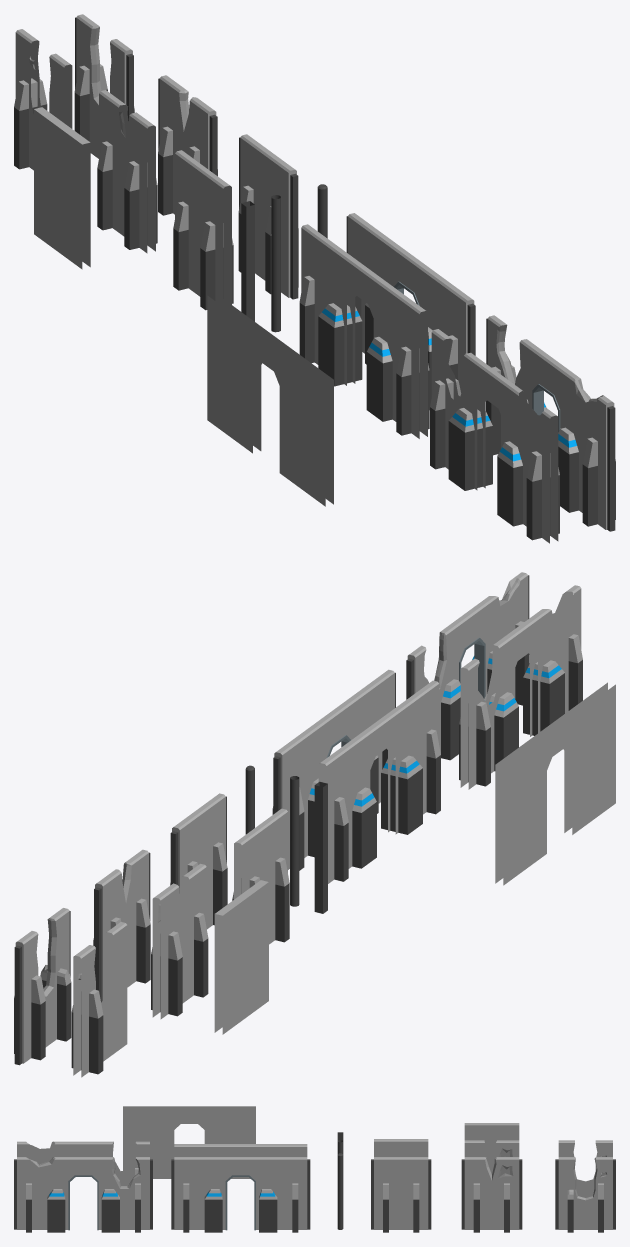
Rendered from OB_House #1.fbx.
3 renders of one model, top to bottom at view 1: azimuth 30°, elevation 25°; view 2: azimuth 150°, elevation 25°; view 3: azimuth 270°, elevation 25°, orthographic. The views are drawn at different scales.
Parts seen in each view (by area): view 1: Model_1(3), Model_1(2), Model_Skybox(2-3), Model_0(2), Model_1(6), Model_0(3), Model_1(5), Model_Skybox(5-7), Model_0(5), Model_0(6), Model_0(7), Model_0(7).001 (+2 smaller); view 2: Model_1(3), Model_1(2), Model_Skybox(2-3), Model_0(2), Model_0(3), Model_1(6), Model_0(7), Model_Skybox(5-7), Model_0(7).001, Model_0(6), Model_0(5), Model_1(5) (+2 smaller); view 3: Model_0(3), Model_0(2), Model_Skybox(2-3), Model_0(5), Model_0(6), Model_0(7), Model_1(2), Model_1(3), Model_Skybox(5-7), Model_1(5), Model_1(6), Model_0(7).001 (+1 smaller).
Part boxes in pixels (box(x1,y1,x2,y2)): Model_1(3): box(299, 224, 429, 438); Model_1(2): box(430, 329, 559, 543); Model_Skybox(2-3): box(207, 293, 333, 506); Model_0(2): box(486, 315, 615, 531); Model_1(6): box(97, 90, 157, 253); Model_0(3): box(346, 213, 475, 409); Model_1(5): box(173, 150, 233, 310); Model_Skybox(5-7): box(34, 107, 90, 269); Model_0(5): box(238, 134, 298, 299); Model_0(6): box(158, 75, 217, 215); Model_0(7): box(74, 14, 134, 158); Model_0(7).001: box(14, 29, 72, 170); Model_1(3): box(318, 680, 440, 883); Model_1(2): box(459, 585, 582, 789); Model_Skybox(2-3): box(495, 682, 615, 885); Model_0(2): box(406, 572, 529, 760); Model_0(3): box(272, 669, 395, 870); Model_1(6): box(151, 863, 208, 1019); Model_0(7): box(14, 908, 71, 1065); Model_Skybox(5-7): box(214, 880, 268, 1034); Model_0(7).001: box(71, 922, 127, 1077); Model_0(6): box(93, 849, 150, 1002); Model_0(5): box(170, 793, 227, 929); Model_1(5): box(232, 808, 289, 944); Model_0(3): box(171, 1157, 310, 1232); Model_0(2): box(14, 1157, 152, 1232); Model_Skybox(2-3): box(123, 1106, 255, 1178); Model_0(5): box(371, 1157, 431, 1232); Model_0(6): box(461, 1157, 522, 1232); Model_0(7): box(555, 1157, 615, 1232); Model_1(2): box(17, 1141, 149, 1185); Model_1(3): box(174, 1144, 307, 1156); Model_Skybox(5-7): box(464, 1123, 519, 1160); Model_1(5): box(374, 1139, 428, 1156); Model_1(6): box(464, 1140, 519, 1174); Model_0(7).001: box(558, 1140, 612, 1197).
Bounding box in the file's own units: 4390 × 2730 × 19900.
